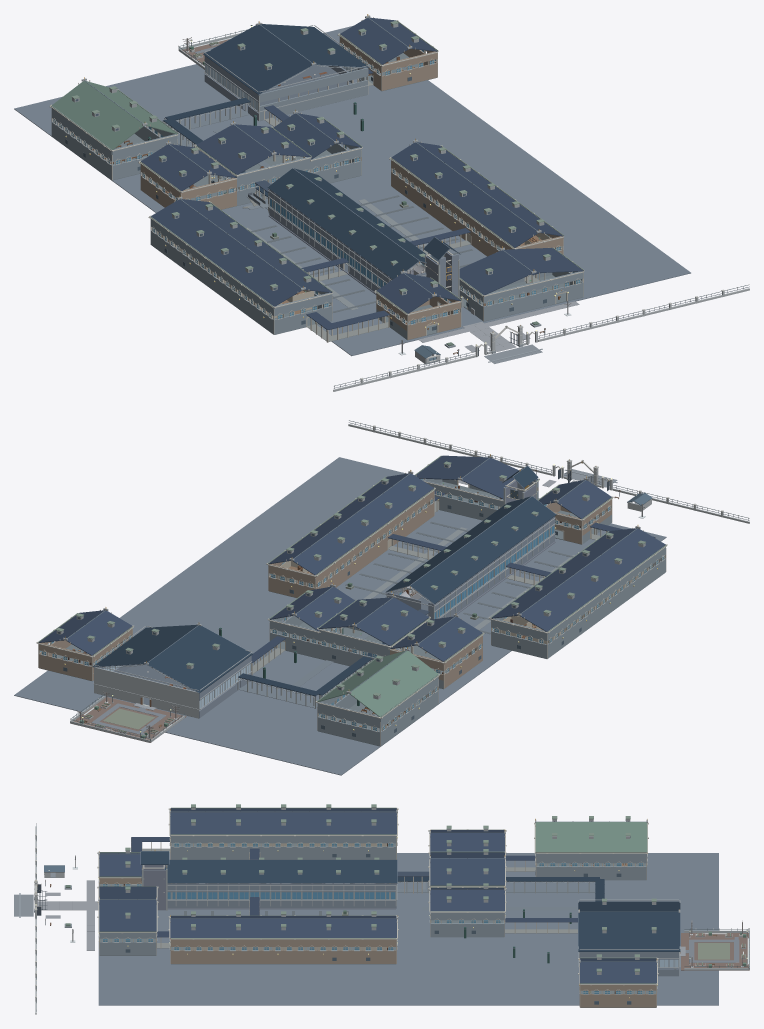
The model's file is lahudi-academy_INDOOR-GREENERY-V16.glb.
The picture shows the model from 3 angles, top to bottom: view 1: azimuth 30°, elevation 25°; view 2: azimuth 150°, elevation 25°; view 3: azimuth 270°, elevation 25°; orthographic projection. The views are drawn at different scales.
Visible parts, largest first — view 1: RG-GAME-02-EXTERIOR-REBUILD-V5__winter_campus_snowbase, RG-GAME-02-EXTERIOR-REBUILD-V5__academic_high_gable_slate_ro (×2), RG-GAME-02-EXTERIOR-REBUILD-V5__library_high_gable_slate_roo (×2), RG-GAME-02-PLAN-LOCK-V9__B_WEST_side_0, RG-GAME-02-PLAN-LOCK-V9__C_EAST_side_0, RG-GAME-02-PLAN-LOCK-V9__G_ASSEMBLY_side_0, RG-GAME-02-PLAN-LOCK-V9__B_WEST_side_1, RG-GAME-02-PLAN-LOCK-V9__B_WEST_west_wall_band_-68.00_24.00 (×2), RG-GAME-02-PLAN-LOCK-V9__E_CENTER_HALL_side_0, RG-GAME-02-PLAN-LOCK-V9__D_EAST_ENTRY_side_0, RG-GAME-02-PLAN-LOCK-V9__C_EAST_west_wall_band_-68.00_24.00 (×2), RG-GAME-02-PLAN-LOCK-V9__F_LIBRARY_SOUTH_REPLACEMENT_wall_ba (×2) (+27 smaller); view 2: RG-GAME-02-EXTERIOR-REBUILD-V5__winter_campus_snowbase, RG-GAME-02-EXTERIOR-REBUILD-V5__academic_high_gable_slate_ro (×2), RG-GAME-02-EXTERIOR-REBUILD-V5__library_high_gable_slate_roo (×2), RG-GAME-02-PLAN-LOCK-V9__B_WEST_side_0, RG-GAME-02-PLAN-LOCK-V9__C_EAST_side_0, RG-GAME-02-VITTI-GARDEN-V15__BATCH_LIBRARY_BACKDOOR_old_ston, RG-GAME-02-PLAN-LOCK-V9__G_ASSEMBLY_side_0, RG-GAME-02-PLAN-LOCK-V9__B_WEST_side_1, RG-GAME-02-PLAN-LOCK-V9__B_WEST_west_wall_band_-68.00_24.00 (×2), RG-GAME-02-PLAN-LOCK-V9__E_CENTER_HALL_side_0, RG-GAME-02-PLAN-LOCK-V9__C_EAST_west_wall_band_-68.00_24.00 (×2), RG-GAME-02-PLAN-LOCK-V9__C_EAST_side_1 (+26 smaller); view 3: RG-GAME-02-EXTERIOR-REBUILD-V5__winter_campus_snowbase, RG-GAME-02-EXTERIOR-REBUILD-V5__academic_high_gable_slate_ro, RG-GAME-02-EXTERIOR-REBUILD-V5__library_high_gable_slate_roo (×2), RG-GAME-02-PLAN-LOCK-V9__B_WEST_side_1, RG-GAME-02-PLAN-LOCK-V9__C_EAST_side_1, RG-GAME-02-PLAN-LOCK-V9__G_ASSEMBLY_side_1, RG-GAME-02-PLAN-LOCK-V9__B_WEST_east_wall_band_-68.00_24.00 (×2), RG-GAME-02-PLAN-LOCK-V9__C_EAST_east_wall_band_-68.00_24.00 (×2), RG-GAME-02-PLAN-LOCK-V9__E_CENTER_HALL_side_1, RG-GAME-02-PLAN-LOCK-V9__G_ASSEMBLY_east_wall_band_-170.00_- (×2), RG-GAME-02-PLAN-LOCK-V9__D_EAST_ENTRY_side_1, RG-GAME-02-PLAN-LOCK-V9__C_EAST_east_low_wall_-68.00_24.00 (+41 smaller).
Boxes of the visible parts, <box> form: RG-GAME-02-EXTERIOR-REBUILD-V5__winter_campus_snowbase: <box>14,25,690,356</box>; RG-GAME-02-EXTERIOR-REBUILD-V5__academic_high_gable_slate_ro (×2): <box>267,168,436,279</box>; RG-GAME-02-EXTERIOR-REBUILD-V5__library_high_gable_slate_roo (×2): <box>203,24,369,94</box>; RG-GAME-02-PLAN-LOCK-V9__B_WEST_side_0: <box>151,199,302,306</box>; RG-GAME-02-PLAN-LOCK-V9__C_EAST_side_0: <box>391,142,538,247</box>; RG-GAME-02-PLAN-LOCK-V9__G_ASSEMBLY_side_0: <box>52,81,144,149</box>; RG-GAME-02-PLAN-LOCK-V9__B_WEST_side_1: <box>181,199,332,292</box>; RG-GAME-02-PLAN-LOCK-V9__B_WEST_west_wall_band_-68.00_24.00 (×2): <box>150,216,273,325</box>; RG-GAME-02-PLAN-LOCK-V9__E_CENTER_HALL_side_0: <box>196,125,272,174</box>; RG-GAME-02-PLAN-LOCK-V9__D_EAST_ENTRY_side_0: <box>459,250,532,295</box>; RG-GAME-02-PLAN-LOCK-V9__C_EAST_west_wall_band_-68.00_24.00 (×2): <box>391,158,513,253</box>; RG-GAME-02-PLAN-LOCK-V9__F_LIBRARY_SOUTH_REPLACEMENT_wall_ba (×2): <box>259,68,367,112</box>; RG-GAME-02-EXTERIOR-REBUILD-V5__winter_campus_snowbase: <box>14,457,666,775</box>; RG-GAME-02-EXTERIOR-REBUILD-V5__academic_high_gable_slate_ro (×2): <box>386,496,556,603</box>; RG-GAME-02-EXTERIOR-REBUILD-V5__library_high_gable_slate_roo (×2): <box>93,625,252,692</box>; RG-GAME-02-PLAN-LOCK-V9__B_WEST_side_0: <box>520,528,665,631</box>; RG-GAME-02-PLAN-LOCK-V9__C_EAST_side_0: <box>293,473,433,575</box>; RG-GAME-02-VITTI-GARDEN-V15__BATCH_LIBRARY_BACKDOOR_old_ston: <box>94,667,199,718</box>; RG-GAME-02-PLAN-LOCK-V9__G_ASSEMBLY_side_0: <box>349,650,438,716</box>; RG-GAME-02-PLAN-LOCK-V9__B_WEST_side_1: <box>491,528,636,618</box>; RG-GAME-02-PLAN-LOCK-V9__B_WEST_west_wall_band_-68.00_24.00 (×2): <box>547,546,665,650</box>; RG-GAME-02-PLAN-LOCK-V9__E_CENTER_HALL_side_0: <box>356,597,429,645</box>; RG-GAME-02-PLAN-LOCK-V9__C_EAST_west_wall_band_-68.00_24.00 (×2): <box>315,489,434,589</box>; RG-GAME-02-PLAN-LOCK-V9__C_EAST_side_1: <box>268,473,409,564</box>; RG-GAME-02-EXTERIOR-REBUILD-V5__winter_campus_snowbase: <box>98,853,718,1005</box>; RG-GAME-02-EXTERIOR-REBUILD-V5__academic_high_gable_slate_ro: <box>164,860,397,883</box>; RG-GAME-02-EXTERIOR-REBUILD-V5__library_high_gable_slate_roo (×2): <box>578,901,680,951</box>; RG-GAME-02-PLAN-LOCK-V9__B_WEST_side_1: <box>170,812,396,834</box>; RG-GAME-02-PLAN-LOCK-V9__C_EAST_side_1: <box>170,918,396,937</box>; RG-GAME-02-PLAN-LOCK-V9__G_ASSEMBLY_side_1: <box>535,822,647,852</box>; RG-GAME-02-PLAN-LOCK-V9__B_WEST_east_wall_band_-68.00_24.00 (×2): <box>171,836,396,852</box>; RG-GAME-02-PLAN-LOCK-V9__C_EAST_east_wall_band_-68.00_24.00 (×2): <box>171,939,396,956</box>; RG-GAME-02-PLAN-LOCK-V9__E_CENTER_HALL_side_1: <box>430,858,504,885</box>; RG-GAME-02-PLAN-LOCK-V9__G_ASSEMBLY_east_wall_band_-170.00_- (×2): <box>536,853,646,872</box>; RG-GAME-02-PLAN-LOCK-V9__D_EAST_ENTRY_side_1: <box>99,900,156,931</box>; RG-GAME-02-PLAN-LOCK-V9__C_EAST_east_low_wall_-68.00_24.00: <box>171,956,396,963</box>.
Bounding box in the file's own units: 180 × 26.24 × 300.
